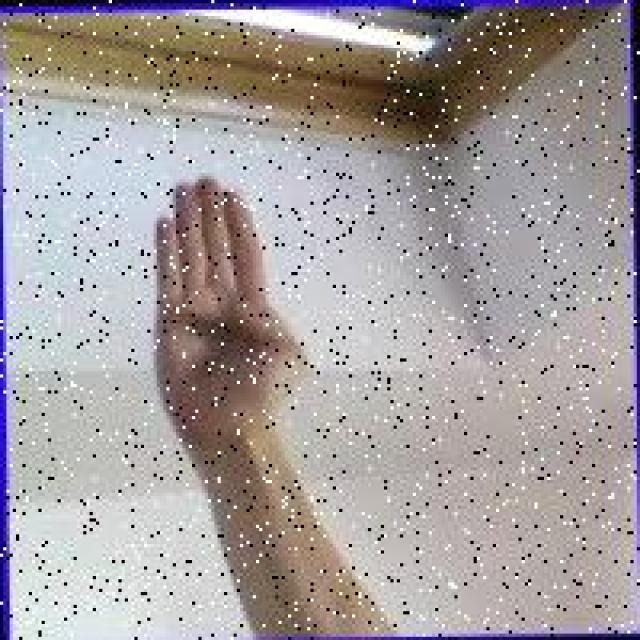B: (147, 165, 310, 456)
